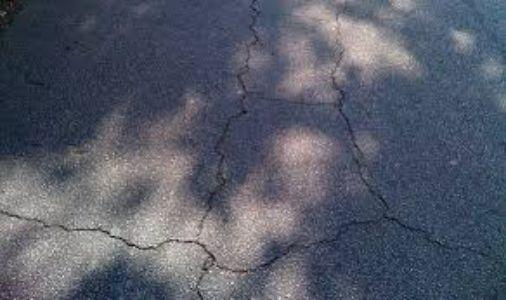crack: (0, 204, 262, 293), (300, 4, 393, 240), (200, 0, 272, 202), (6, 51, 75, 113), (266, 231, 320, 269)
